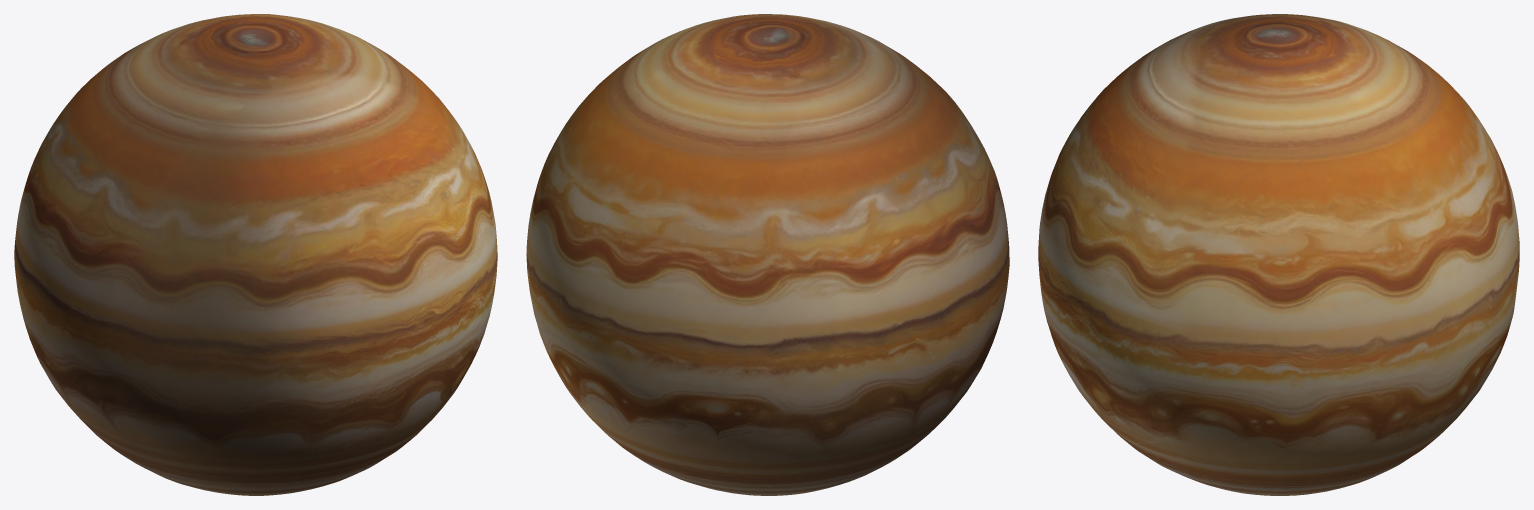
File: gas_planet_5.glb
3 views of the same model, side by side, from view 1: azimuth 30°, elevation 25°; view 2: azimuth 150°, elevation 25°; view 3: azimuth 270°, elevation 25° (orthographic).
Visible parts, largest first — view 1: Mesh_0.024; view 2: Mesh_0.024; view 3: Mesh_0.024.
Part boxes in pixels (x1,y1,x2,y2): Mesh_0.024: (14,14,497,495); Mesh_0.024: (526,14,1009,495); Mesh_0.024: (1038,14,1519,495).
Bounding box in the file's own units: 2 × 2 × 2.
Materials: 1 (1 with a texture image).
